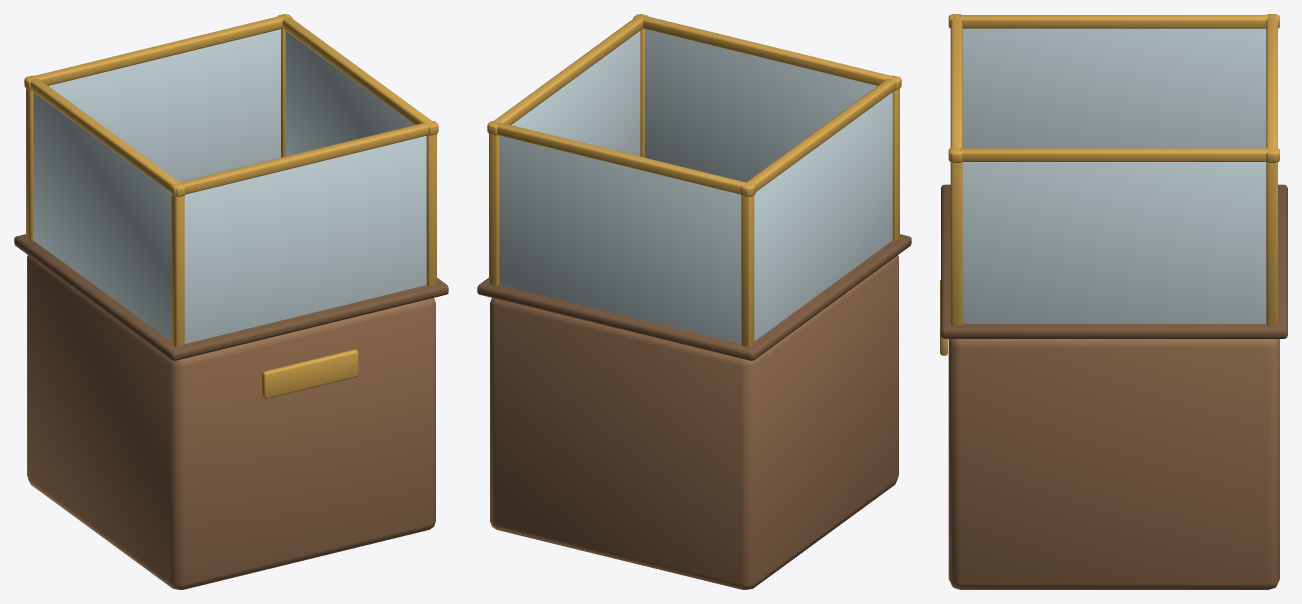
File: glass-case.glb
3 renders of one model, left to right at view 1: azimuth 30°, elevation 25°; view 2: azimuth 150°, elevation 25°; view 3: azimuth 270°, elevation 25°, orthographic. The views are drawn at different scales.
Visible parts, largest first — view 1: case, glass; view 2: case, glass; view 3: case, glass.
Boxes of the visible parts, bbox=[...] form: case: bbox=[14, 14, 448, 589]; glass: bbox=[33, 29, 426, 343]; case: bbox=[477, 14, 911, 589]; glass: bbox=[499, 29, 892, 343]; case: bbox=[940, 14, 1287, 589]; glass: bbox=[962, 28, 1266, 323].
Size of the model in its own units: 0.88 by 1.24 by 0.882.
